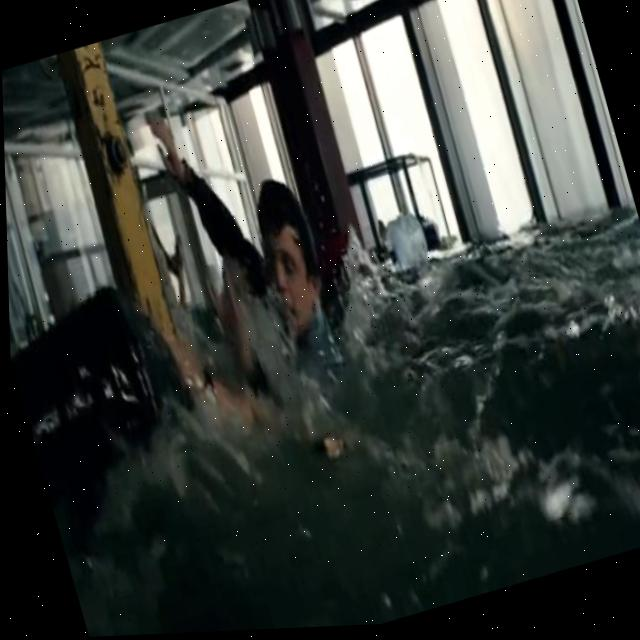civilian: (119, 39, 430, 496)
